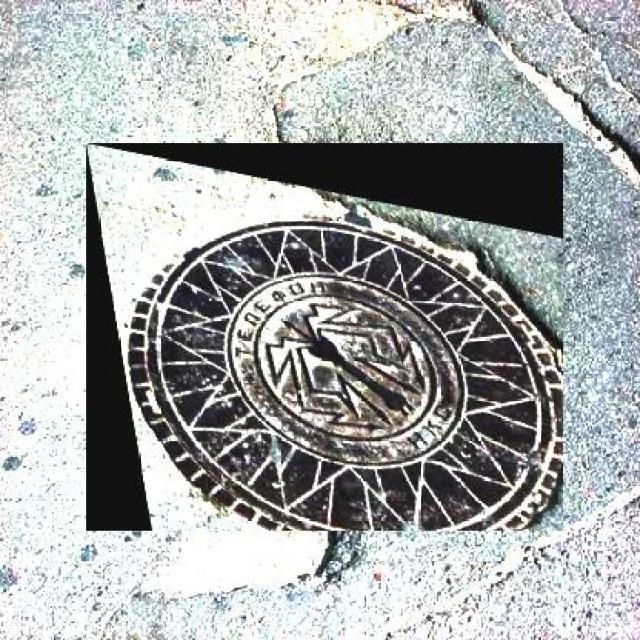Manhole: (86, 143, 563, 531)
